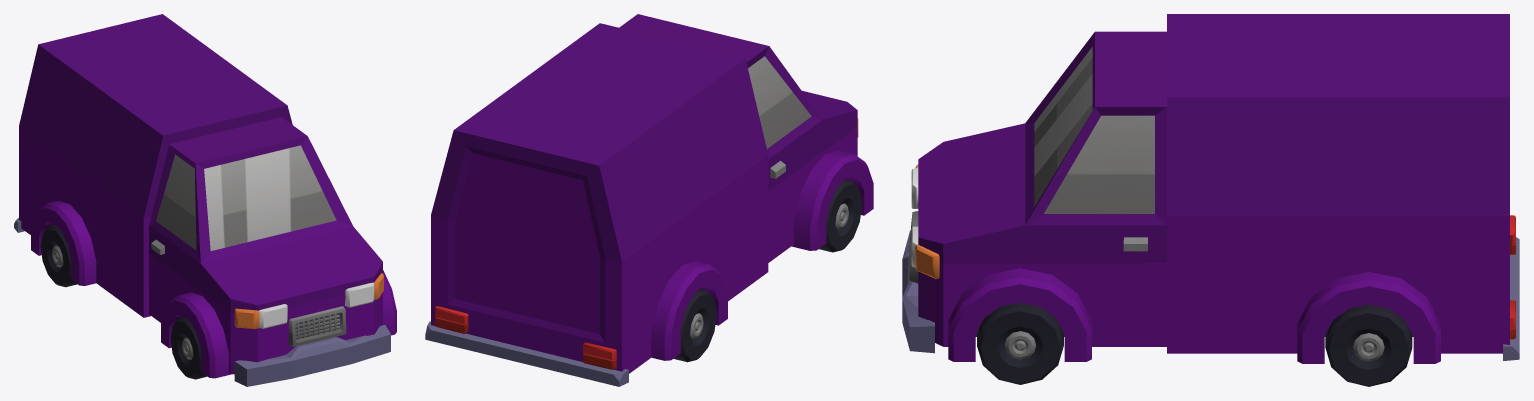
The model's file is Van_15.glb.
3 renders of one model, left to right at view 1: azimuth 30°, elevation 25°; view 2: azimuth 150°, elevation 25°; view 3: azimuth 270°, elevation 25°, orthographic. The views are drawn at different scales.
Visible parts, largest first — view 1: Van_15, wheel_FR, wheel_BR; view 2: Van_15, wheel_BR, wheel_FR; view 3: Van_15, wheel_BL, wheel_FL.
Boxes of the visible parts, left/top/right/bottom form: Van_15: left=14, top=14, right=396, bottom=386; wheel_FR: left=170, top=317, right=207, bottom=379; wheel_BR: left=40, top=224, right=77, bottom=287; Van_15: left=425, top=14, right=873, bottom=386; wheel_BR: left=673, top=289, right=716, bottom=362; wheel_FR: left=819, top=179, right=861, bottom=252; Van_15: left=902, top=14, right=1519, bottom=363; wheel_BL: left=1325, top=304, right=1412, bottom=386; wheel_FL: left=977, top=302, right=1063, bottom=384.
Bounding box in the file's own units: 1.23 × 1.19 × 2.48.
Materials: 5 (5 with a texture image).
